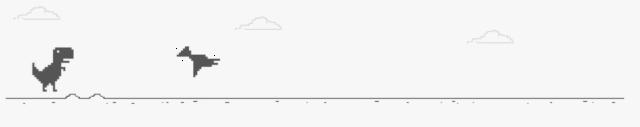bird: (178, 47, 219, 77)
cloud: (236, 17, 281, 30), (14, 7, 59, 19), (468, 31, 513, 43)
dinosaur: (33, 48, 73, 91)
